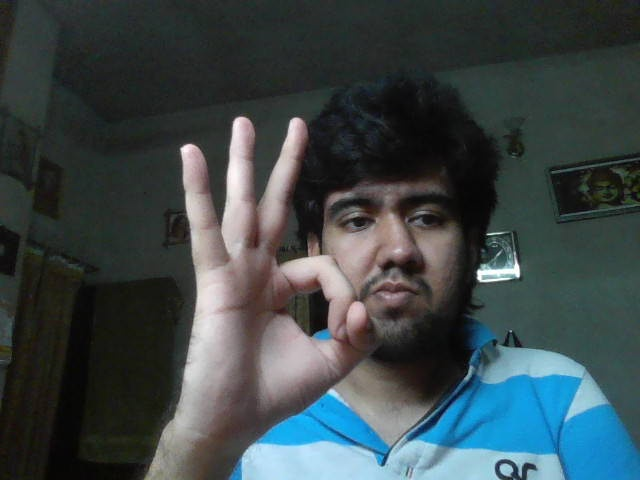Nice: (181, 115, 375, 423)
